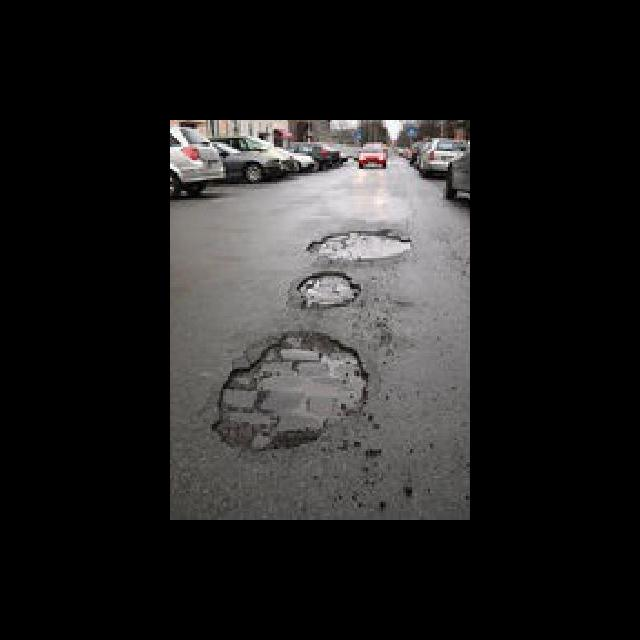lubang_kecil: (203, 326, 372, 459), (278, 264, 371, 316)
